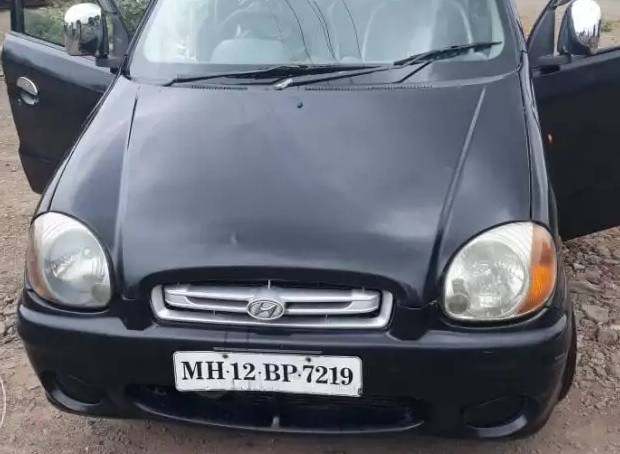licenseplate: (171, 348, 366, 399)
